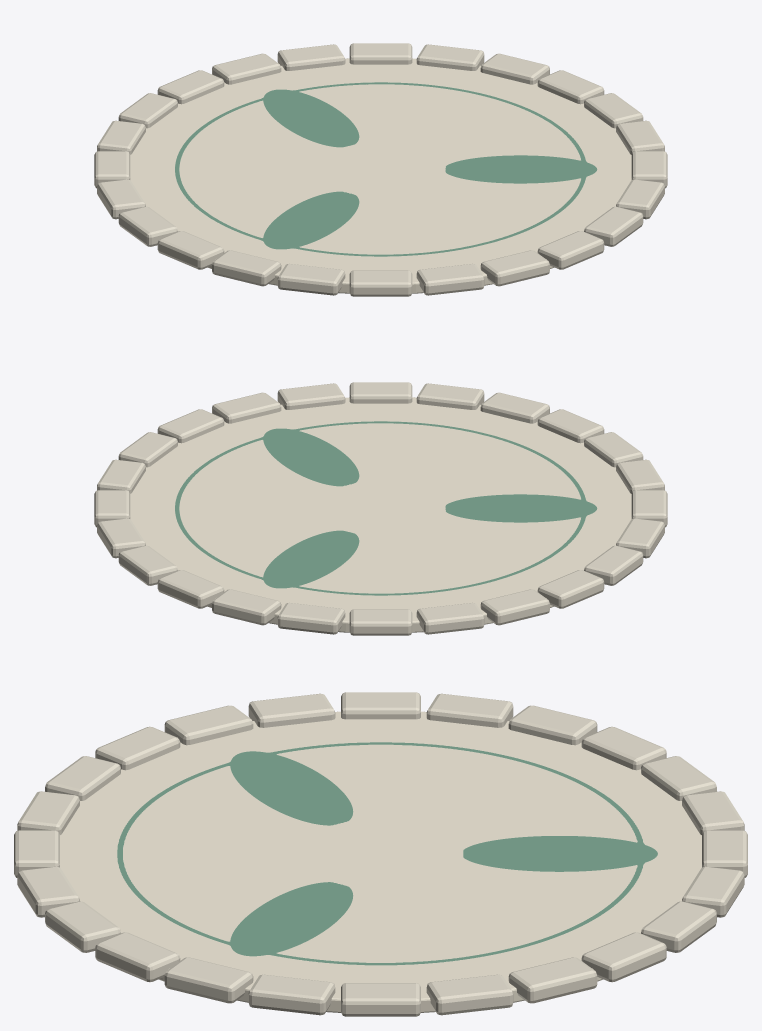
Rendered from Test_CheonRef_HealingCircle.fbx.
3 renders of one model, top to bottom at view 1: azimuth 30°, elevation 25°; view 2: azimuth 150°, elevation 25°; view 3: azimuth 270°, elevation 25°, orthographic. The views are drawn at different scales.
Parts seen in each view (by area): view 1: SharedRitualStoneFloor.001, FlatRitualInlay.001, LowRimStone.039, LowRimStone.041, LowRimStone.038, LowRimStone.042, LowRimStone.040, LowRimStone.037, LowRimStone.043, LowRimStone.036, LowRimStone.044, LowRimStone.027 (+14 smaller); view 2: SharedRitualStoneFloor.001, FlatRitualInlay.001, LowRimStone.031, LowRimStone.033, LowRimStone.030, LowRimStone.034, LowRimStone.032, LowRimStone.029, LowRimStone.035, LowRimStone.028, LowRimStone.036, LowRimStone.043 (+14 smaller); view 3: SharedRitualStoneFloor.001, FlatRitualInlay.001, LowRimStone.025, LowRimStone.047, LowRimStone.026, LowRimStone.046, LowRimStone.024, LowRimStone.027, LowRimStone.045, LowRimStone.028, LowRimStone.044, LowRimStone.035 (+14 smaller).
Boxes of the visible parts, box(x1,y1,x2,y2) form: SharedRitualStoneFloor.001: box(130, 58, 631, 293); FlatRitualInlay.001: box(175, 82, 597, 256); LowRimStone.039: box(277, 263, 345, 295); LowRimStone.041: box(416, 263, 484, 295); LowRimStone.038: box(212, 250, 281, 286); LowRimStone.042: box(480, 250, 549, 286); LowRimStone.040: box(349, 270, 412, 296); LowRimStone.037: box(157, 231, 224, 269); LowRimStone.043: box(537, 231, 604, 269); LowRimStone.036: box(118, 206, 177, 246); LowRimStone.044: box(584, 206, 643, 246); LowRimStone.027: box(416, 44, 484, 70); SharedRitualStoneFloor.001: box(130, 397, 631, 632); FlatRitualInlay.001: box(175, 421, 597, 595); LowRimStone.031: box(277, 602, 345, 634); LowRimStone.033: box(416, 602, 484, 634); LowRimStone.030: box(212, 589, 281, 625); LowRimStone.034: box(480, 589, 549, 625); LowRimStone.032: box(349, 609, 412, 635); LowRimStone.029: box(157, 570, 224, 608); LowRimStone.035: box(537, 570, 604, 608); LowRimStone.028: box(118, 545, 177, 585); LowRimStone.036: box(584, 545, 643, 585); LowRimStone.043: box(416, 383, 484, 409); SharedRitualStoneFloor.001: box(60, 711, 701, 1012); FlatRitualInlay.001: box(117, 742, 657, 965); LowRimStone.025: box(426, 974, 513, 1015); LowRimStone.047: box(248, 974, 335, 1015); LowRimStone.026: box(508, 957, 597, 1003); LowRimStone.046: box(164, 957, 253, 1003); LowRimStone.024: box(341, 983, 420, 1016); LowRimStone.027: box(581, 932, 666, 982); LowRimStone.045: box(95, 932, 180, 982); LowRimStone.028: box(641, 901, 716, 952); LowRimStone.044: box(45, 901, 120, 952); LowRimStone.035: box(426, 693, 513, 727).
Bounding box in the file's own units: 512 × 18.5 × 512.
